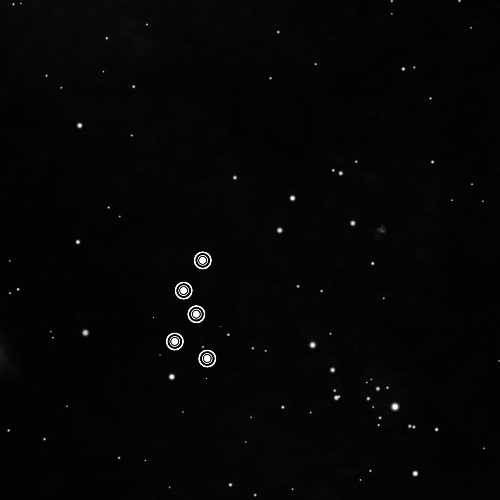cassiopeia: (145, 240, 230, 383)
